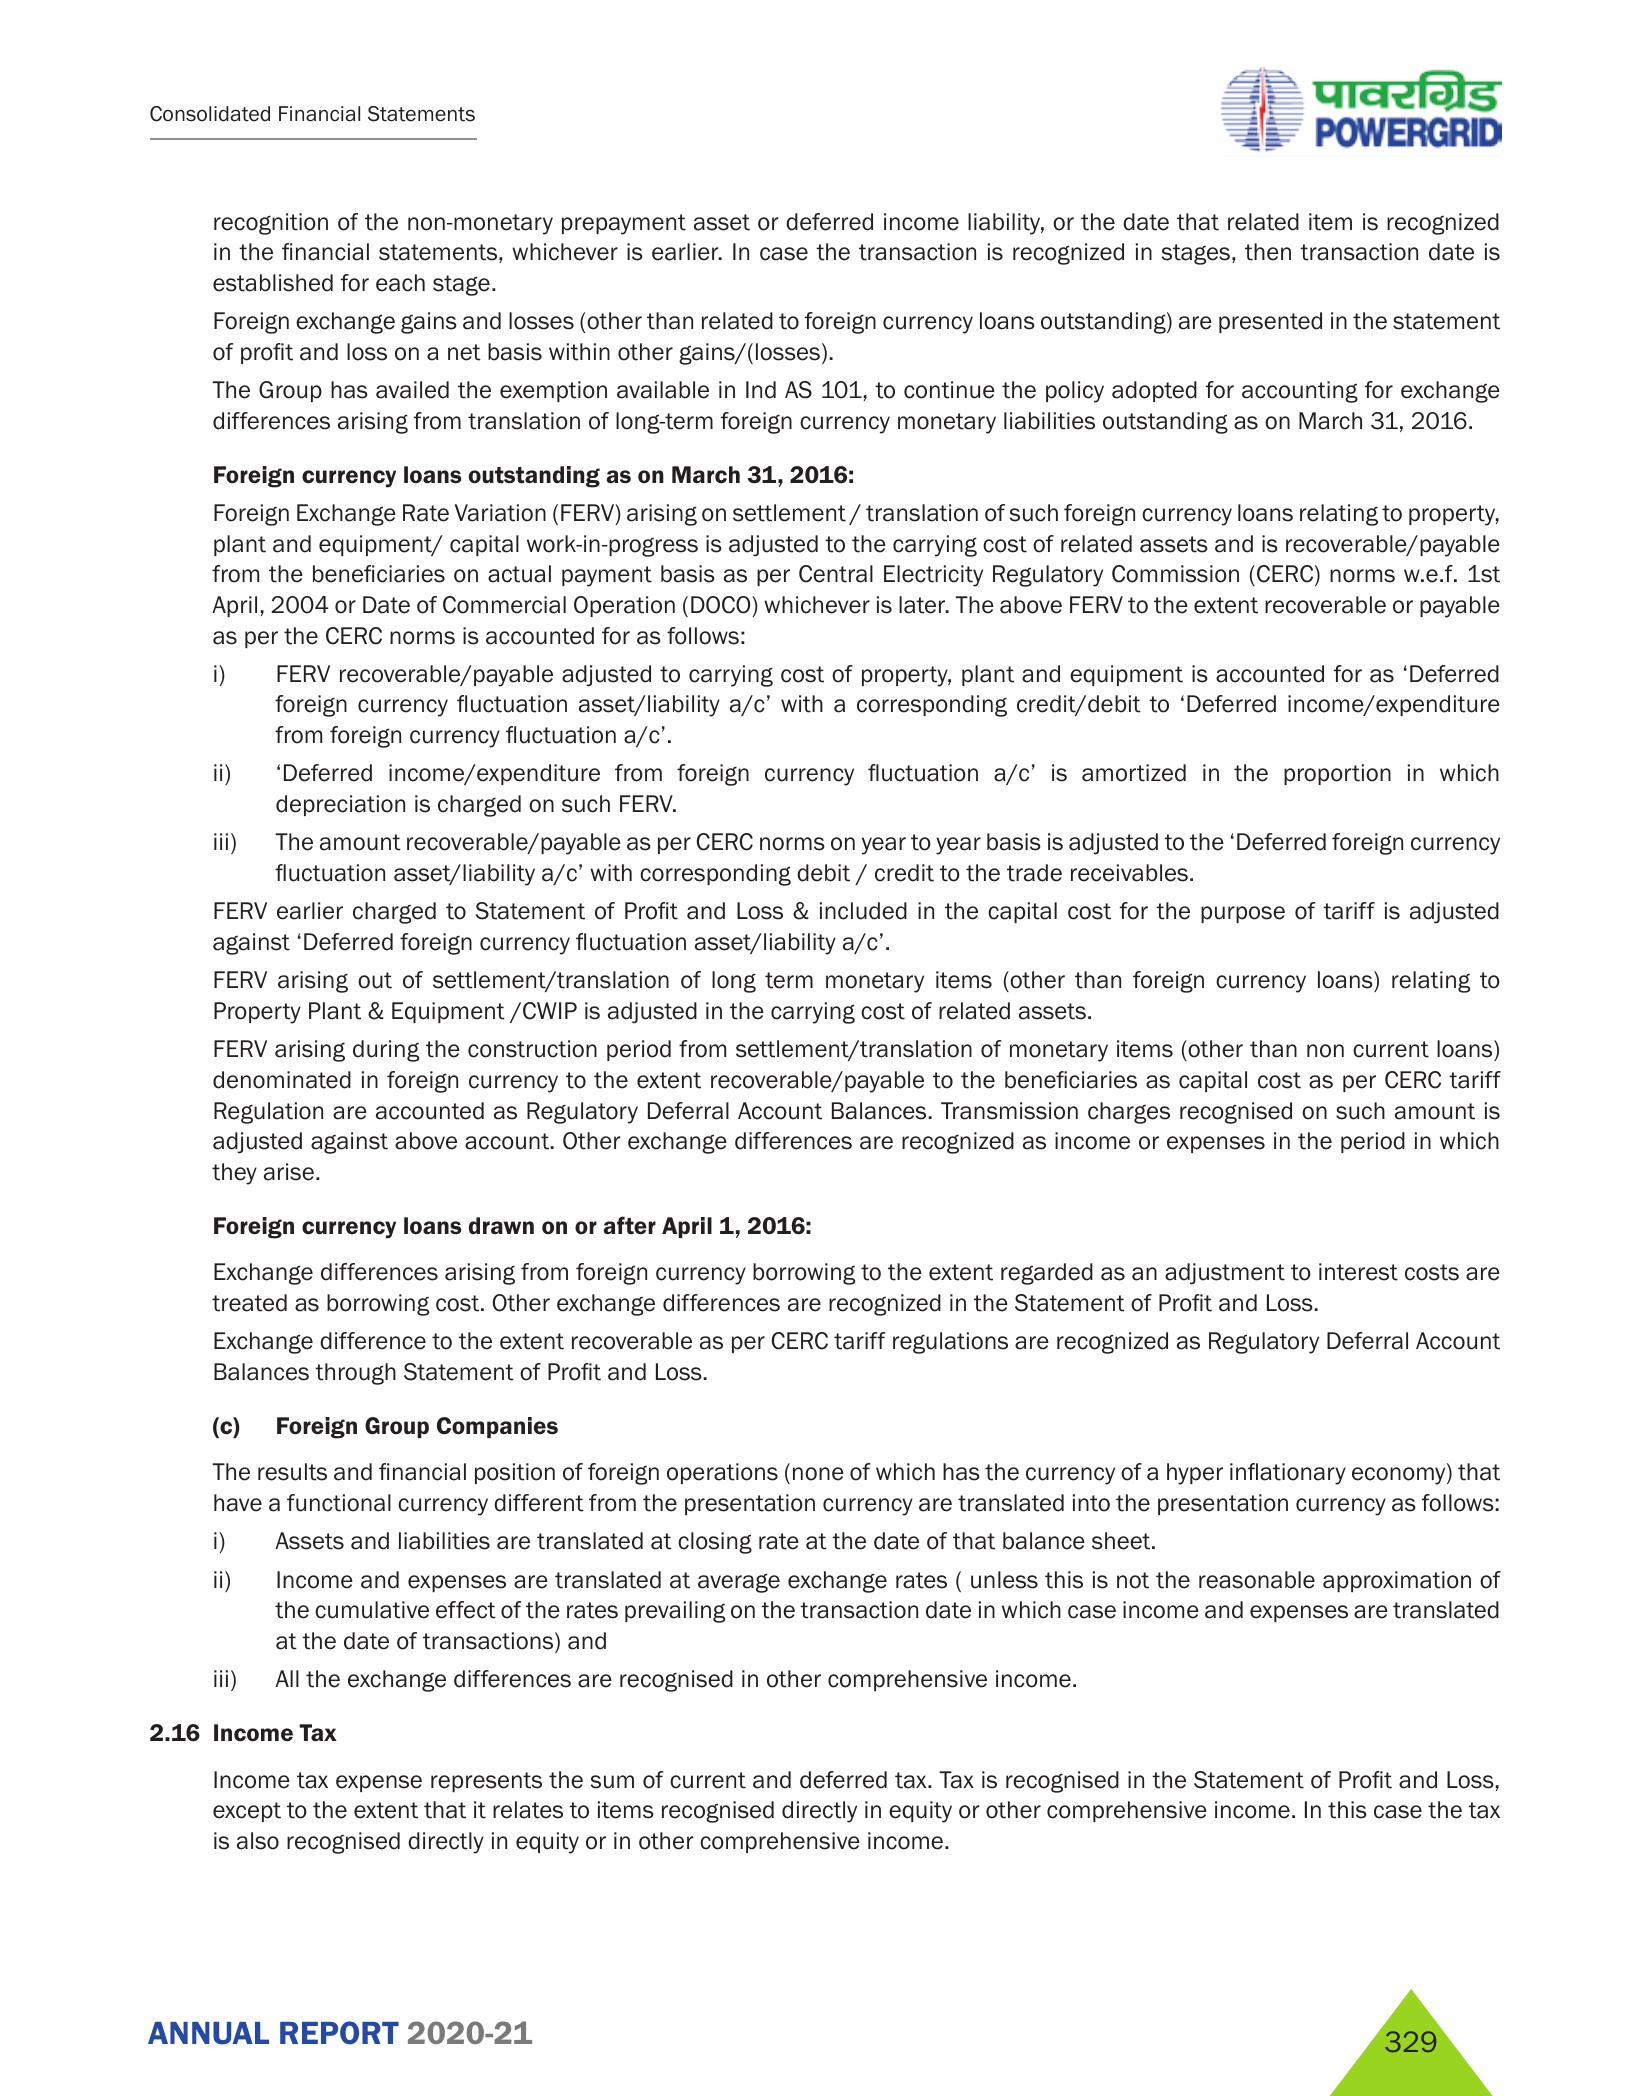Footer: (32, 1956, 1650, 2096)
Header: (0, 0, 1650, 163)
